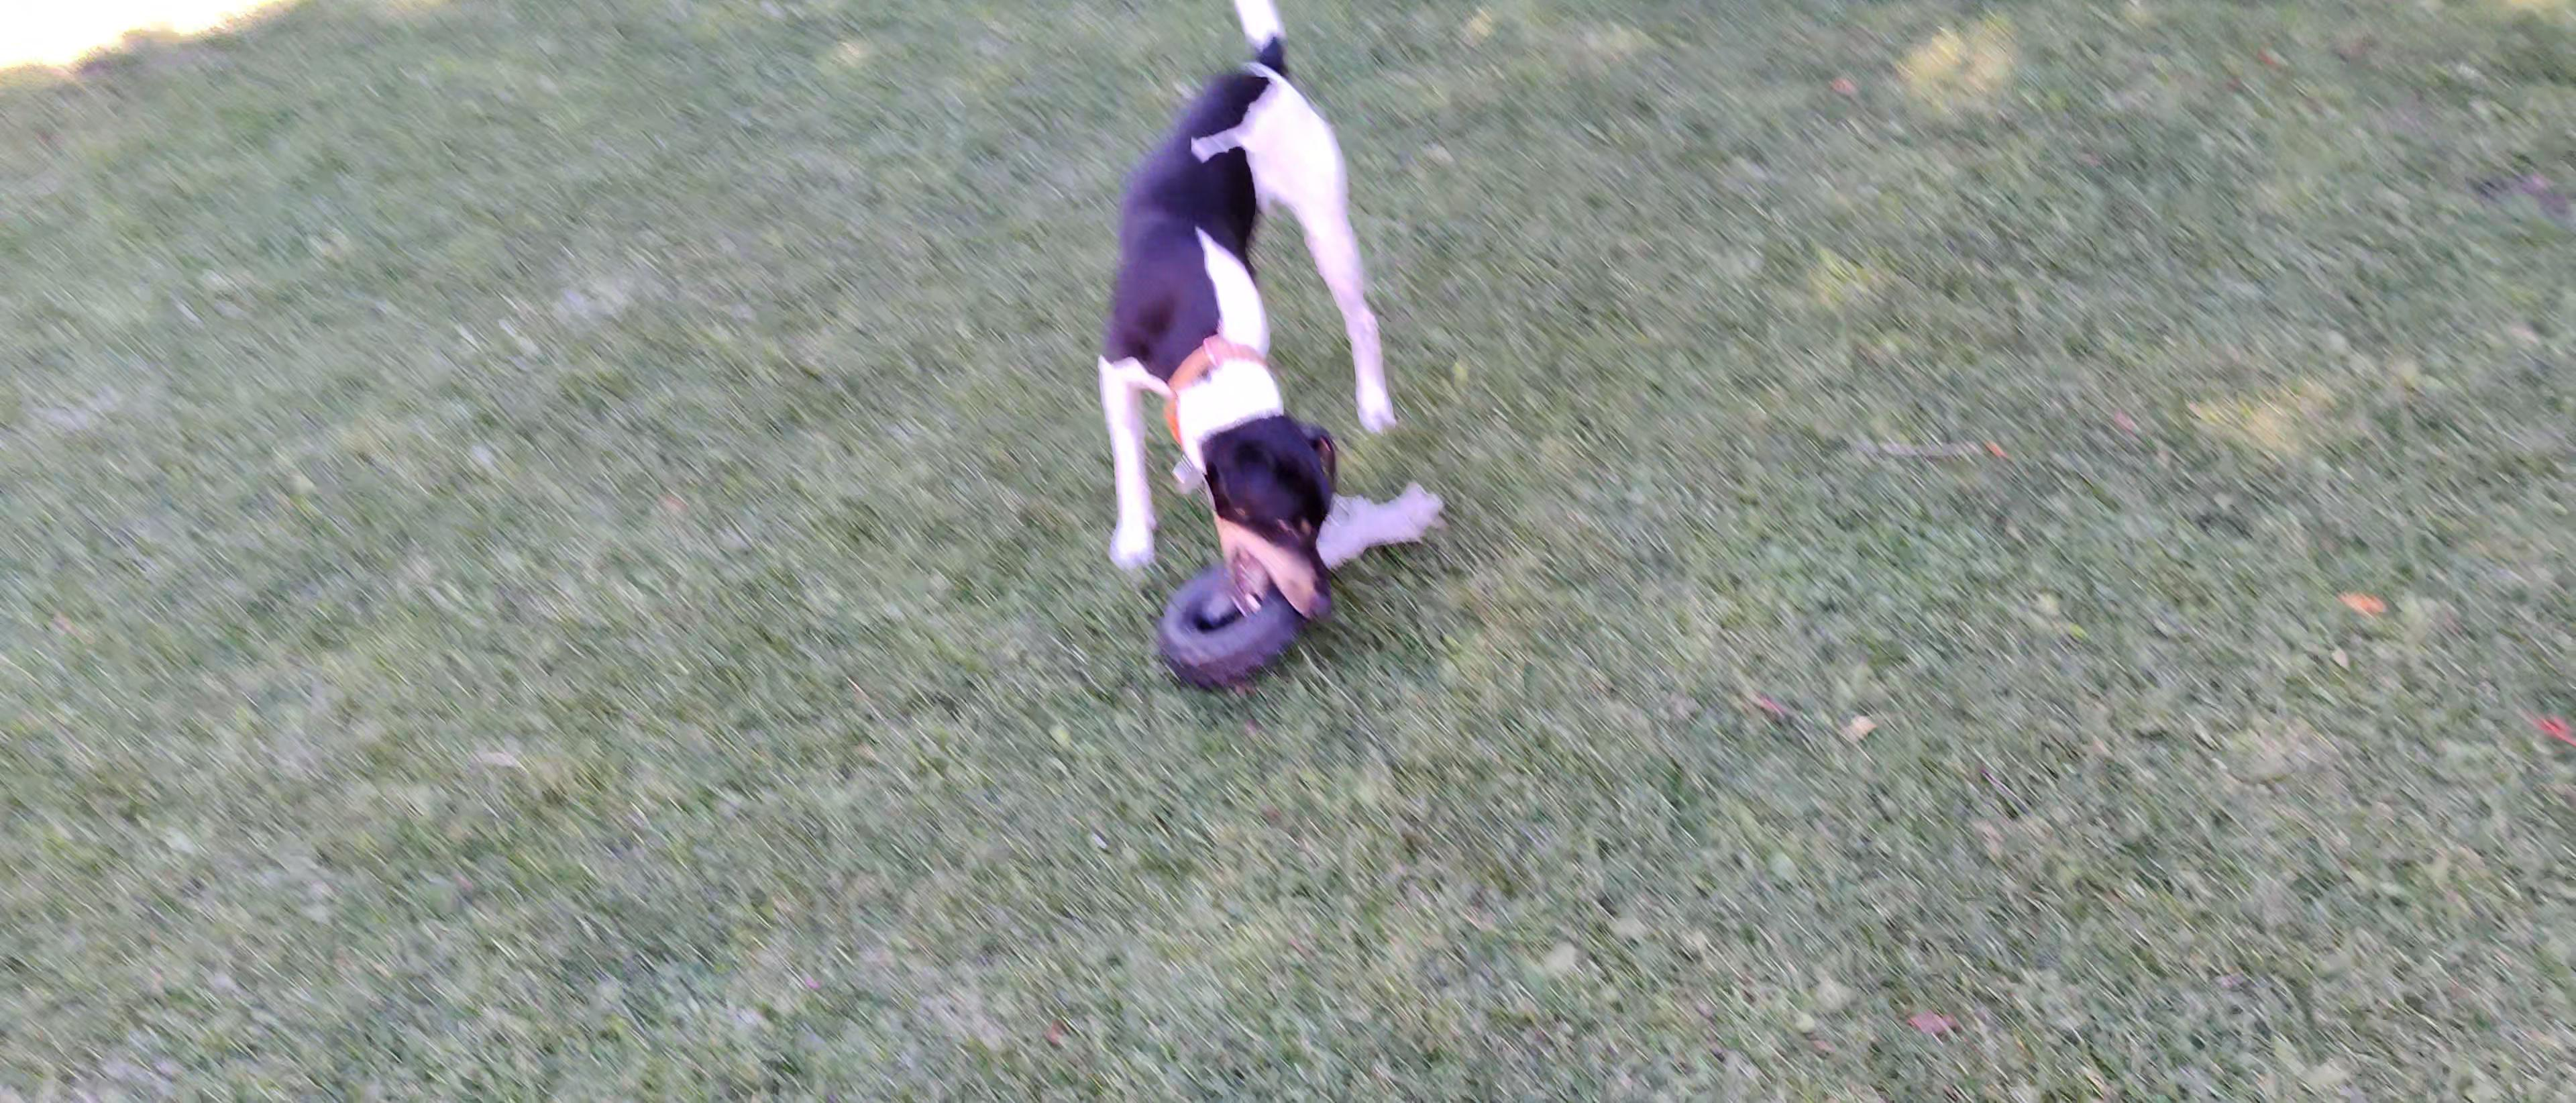Dog: (1086, 0, 1406, 638)
